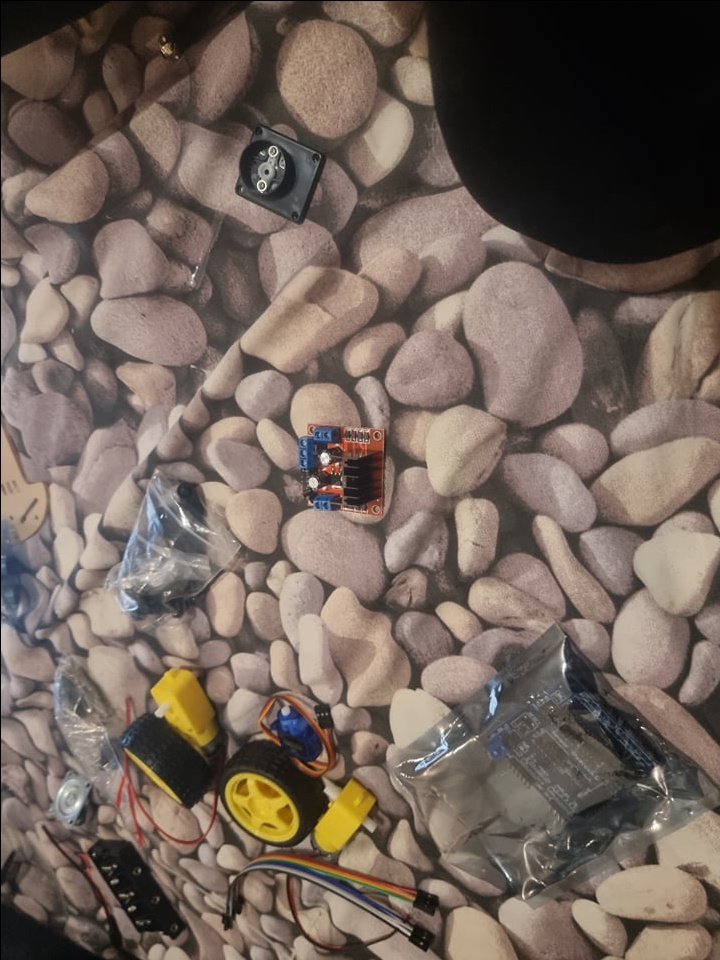BATTERY BOX: (85, 837, 178, 945)
MOTOR: (296, 417, 387, 520)
